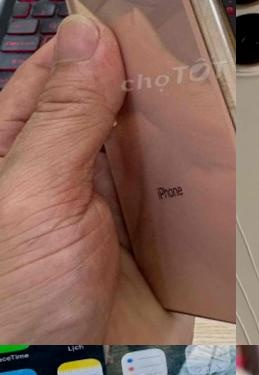physical_damage: (236, 192, 259, 345)
